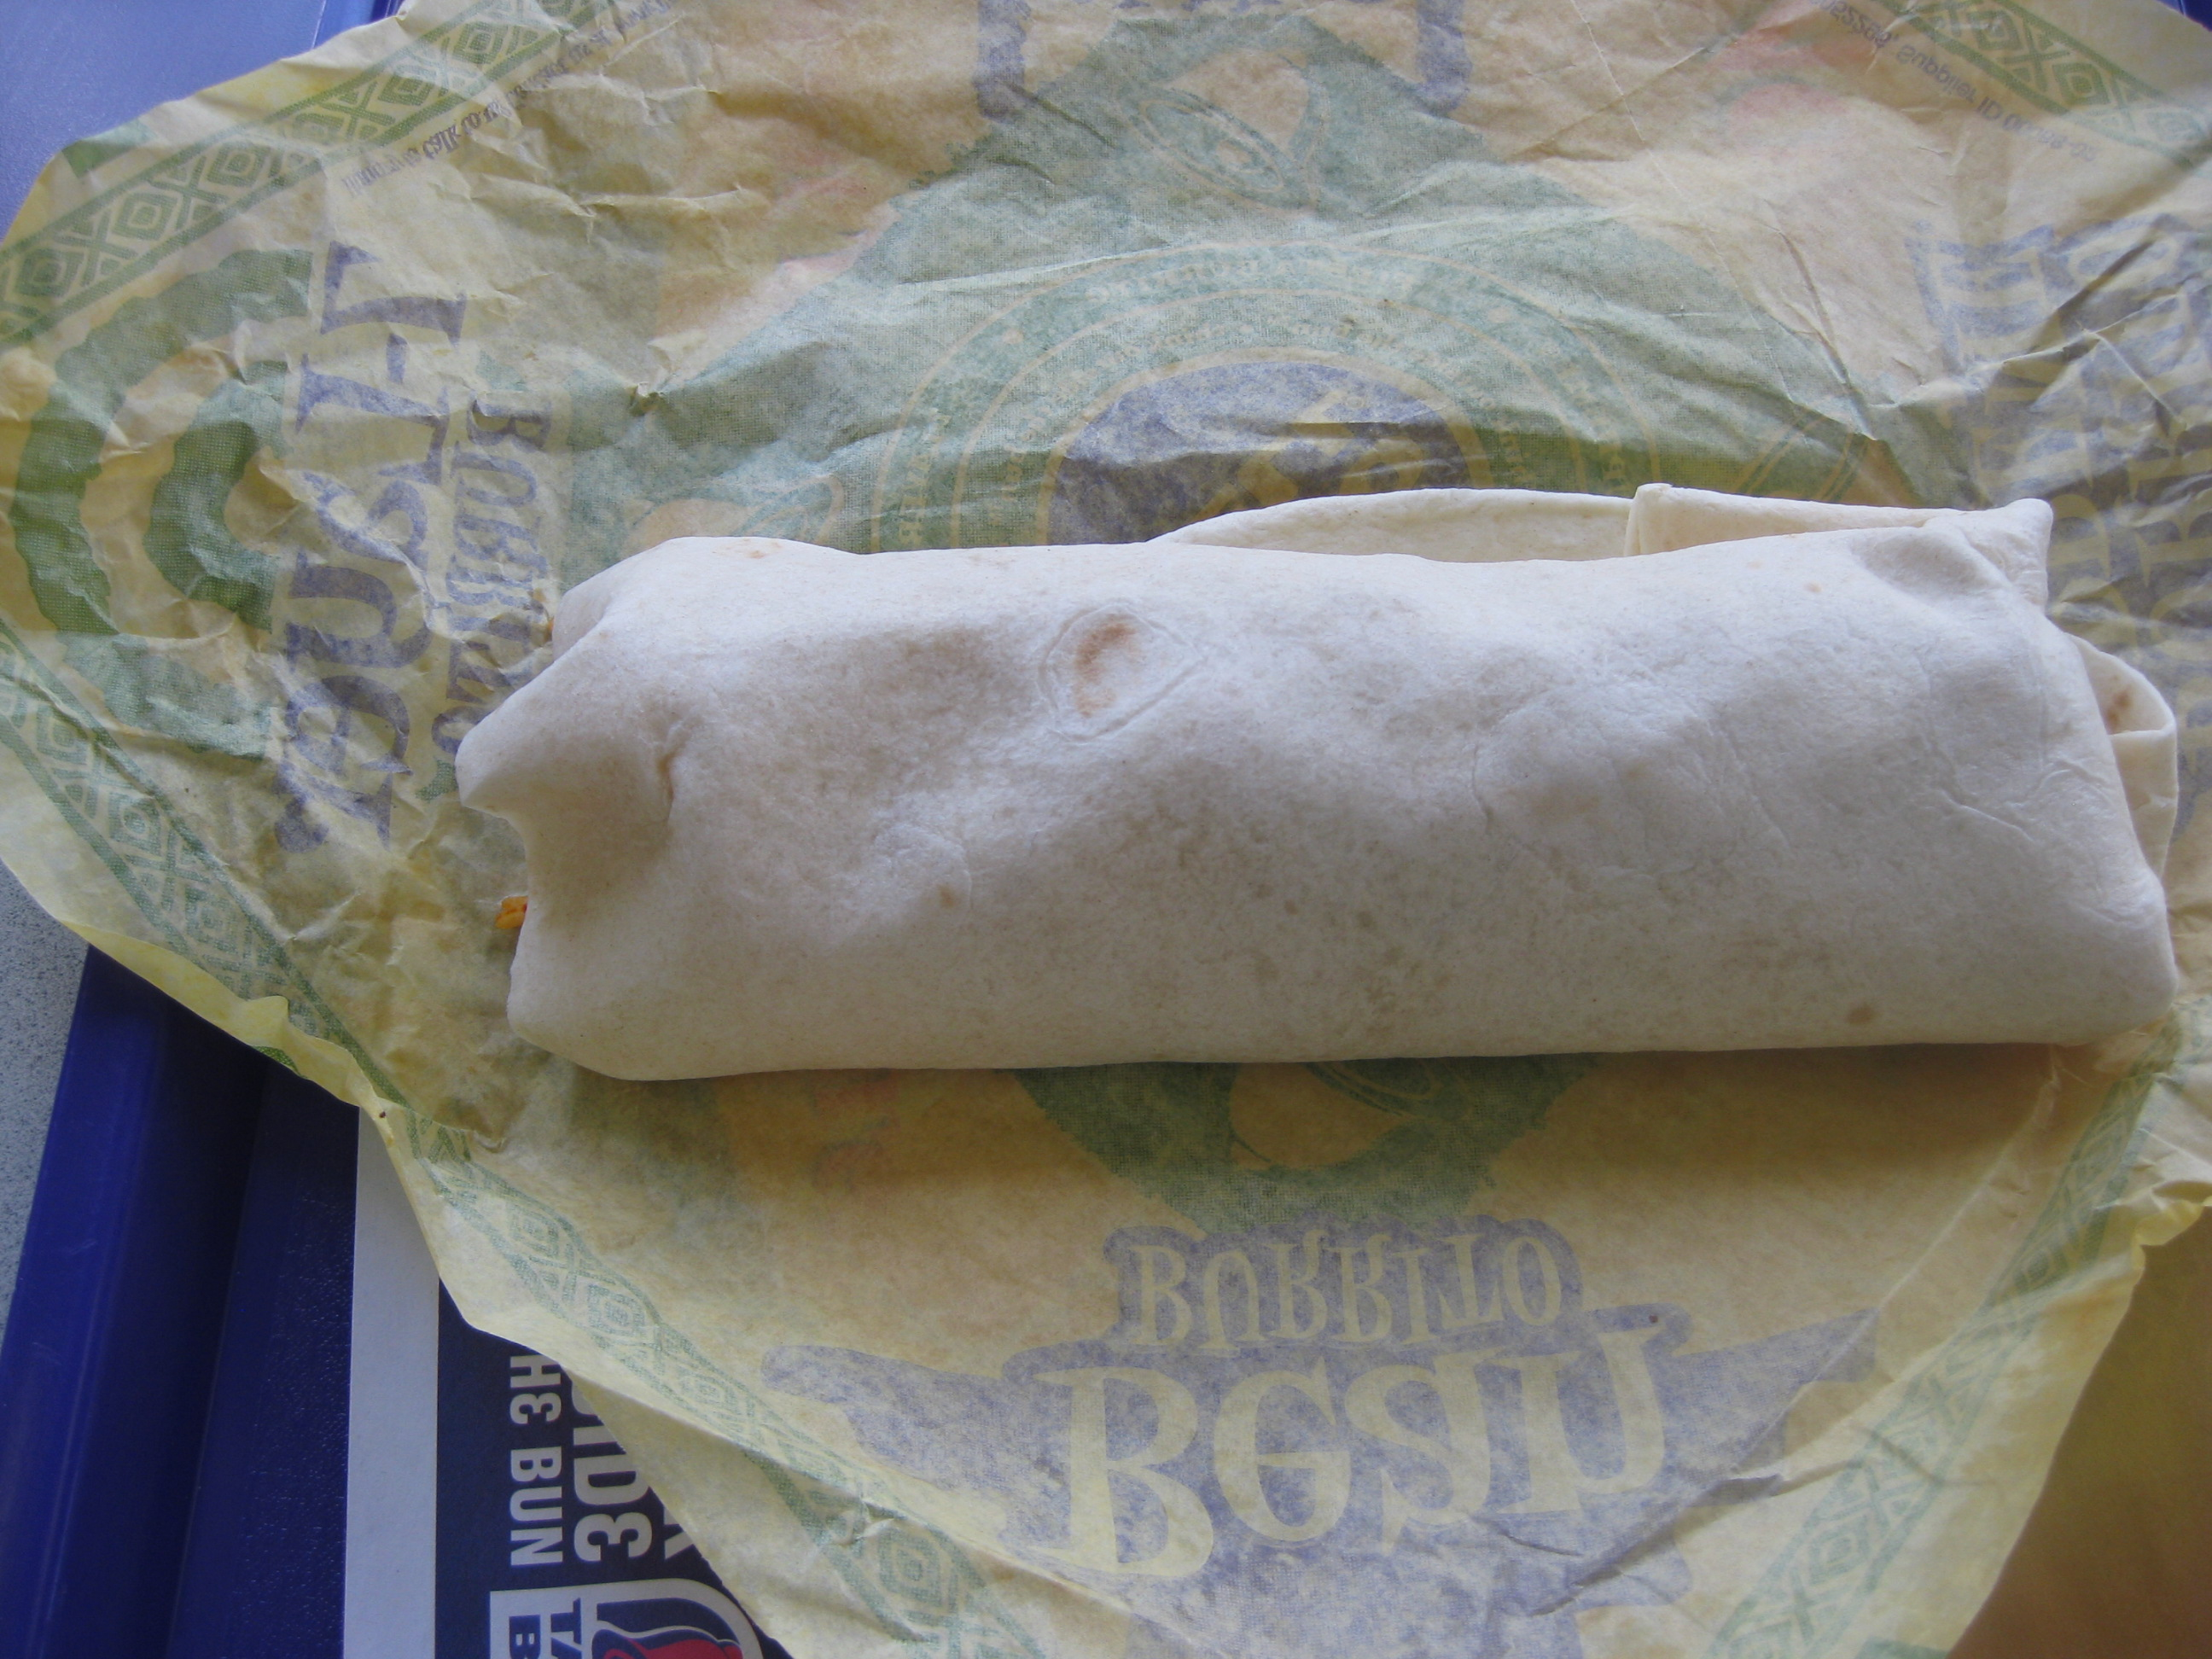burrito: (437, 426, 2192, 1190)
